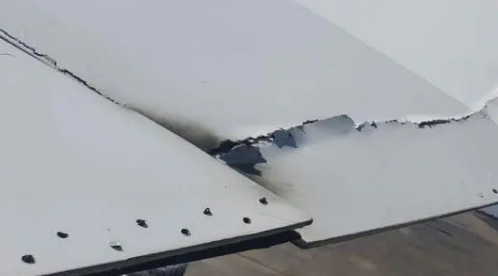Cracks: (205, 118, 305, 177), (69, 68, 126, 110), (458, 87, 496, 131), (32, 44, 69, 77), (407, 108, 460, 130), (0, 21, 31, 56), (305, 110, 354, 132), (354, 115, 406, 135)
Dents or Deformation: (127, 99, 206, 155)
Paint Peeling: (219, 143, 266, 176), (267, 127, 300, 153)
